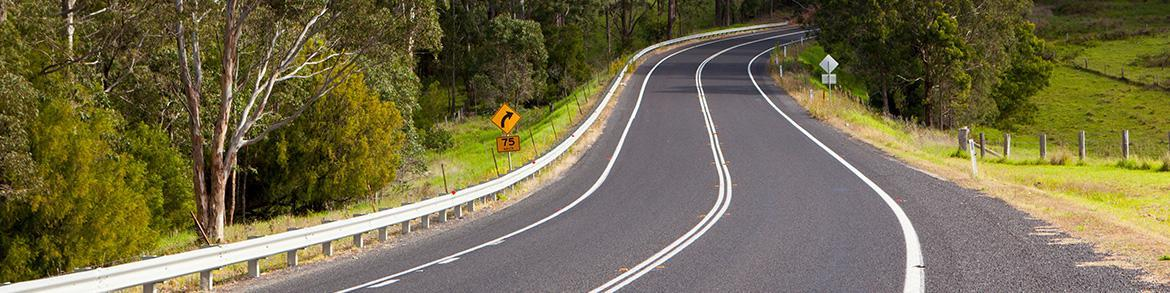indicator: (489, 106, 528, 151), (818, 51, 843, 90)
